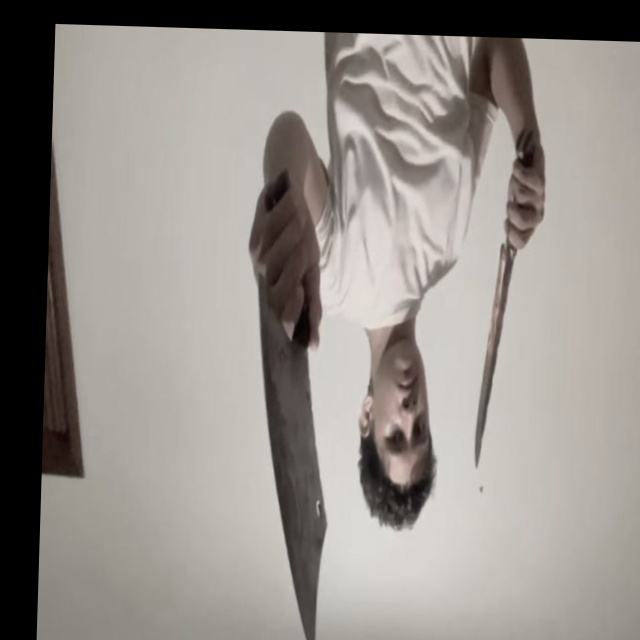Sharp-Object: (246, 282, 334, 640), (474, 248, 513, 465)
